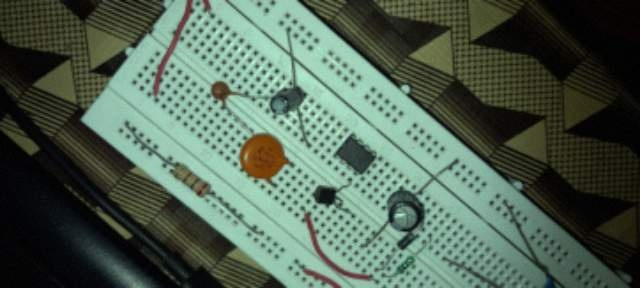capacitor: (236, 132, 286, 185), (383, 188, 426, 232), (269, 86, 307, 116), (209, 80, 231, 106)
resistor: (170, 161, 214, 199), (392, 254, 418, 276)
